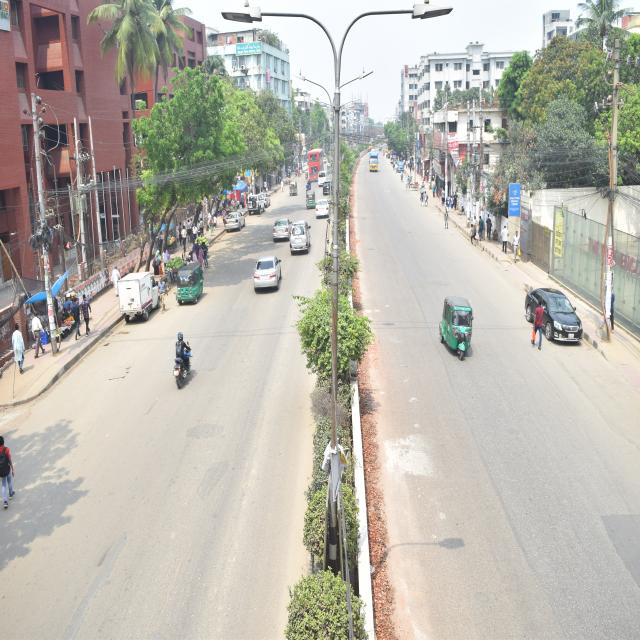bus: (308, 146, 322, 182)
car: (527, 285, 585, 342), (252, 253, 283, 296), (220, 207, 248, 237), (245, 191, 266, 218), (270, 216, 290, 243), (314, 197, 333, 224)
microbus: (288, 217, 316, 259)
motorbike: (170, 344, 194, 391)
pickup-van: (116, 268, 166, 320), (368, 148, 380, 172)
